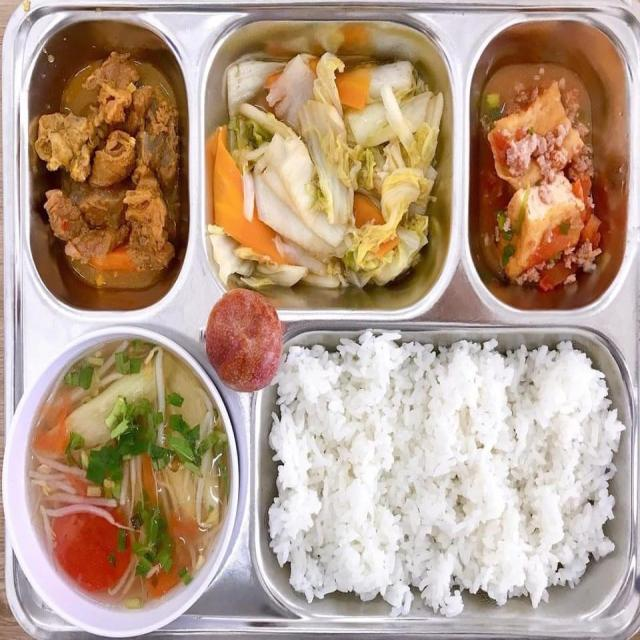bap cai xao: (208, 42, 443, 288)
canh chua: (31, 338, 229, 608)
com: (269, 331, 625, 618)
dau hu: (487, 80, 600, 290)
ga kho: (33, 52, 181, 288)
